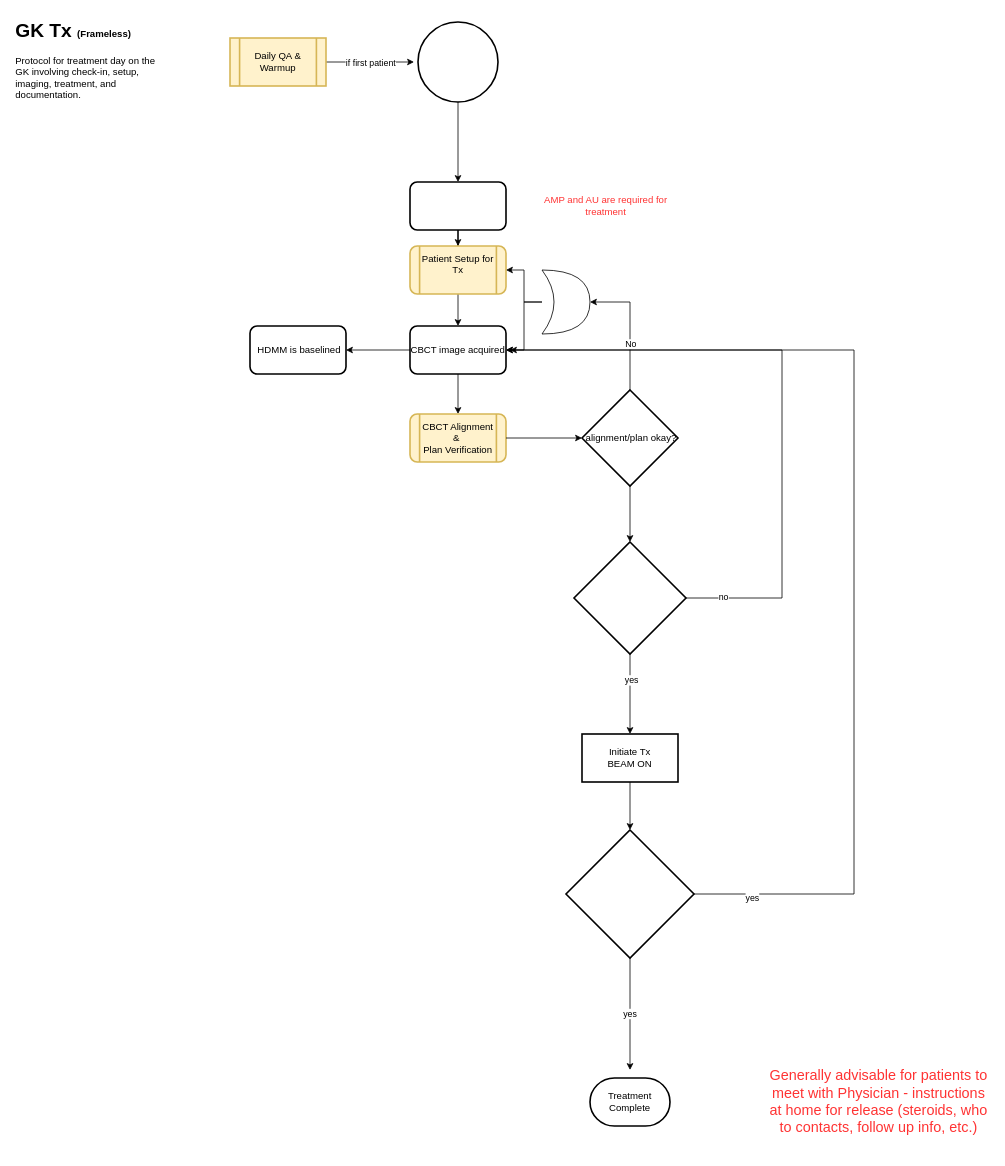
The diagram is 1005 pixels wide and 1166 high, and some of its shapes have lost their labels. Each missing label, with the centre of its shape:
HDMM out of tolerance or Patient Alert: (x=629, y=893)
is HDMM within tolerance (currently = 1.5mm): (x=629, y=597)
Patient Checks in (Q in Mosaiq): (x=457, y=61)
RTT brings patient to GK Vault: (x=457, y=205)
